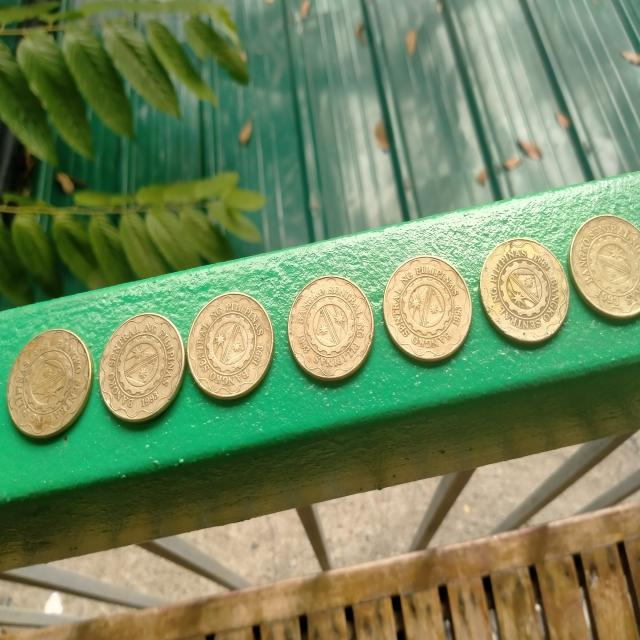5_Old_Back: (104, 313, 178, 413), (390, 264, 457, 352)
